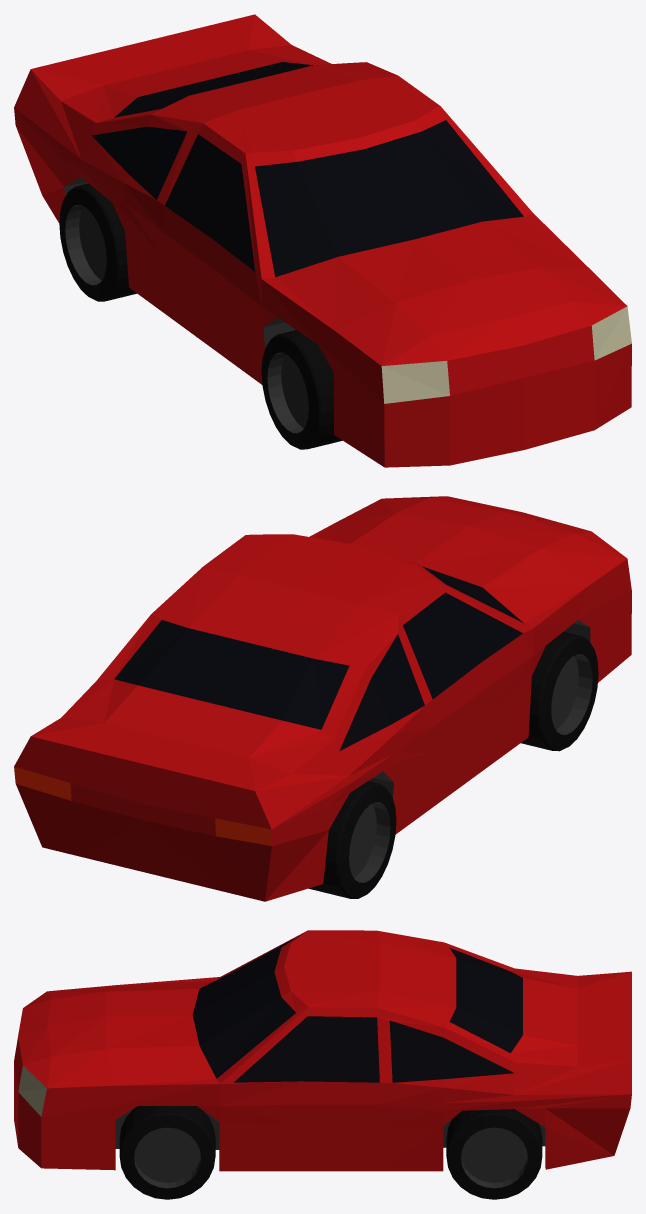
The model's file is car.obj.
3 renders of one model, top to bottom at view 1: azimuth 30°, elevation 25°; view 2: azimuth 150°, elevation 25°; view 3: azimuth 270°, elevation 25°, orthographic. The views are drawn at different scales.
Parts seen in each view (by area): view 1: Car; view 2: Car; view 3: Car.
Part boxes in pixels (bbox=[...]): Car: bbox=[14, 14, 631, 467]; Car: bbox=[14, 496, 631, 901]; Car: bbox=[14, 930, 631, 1199].
Size of the model in its own units: 1.76 by 1.31 by 4.1.
